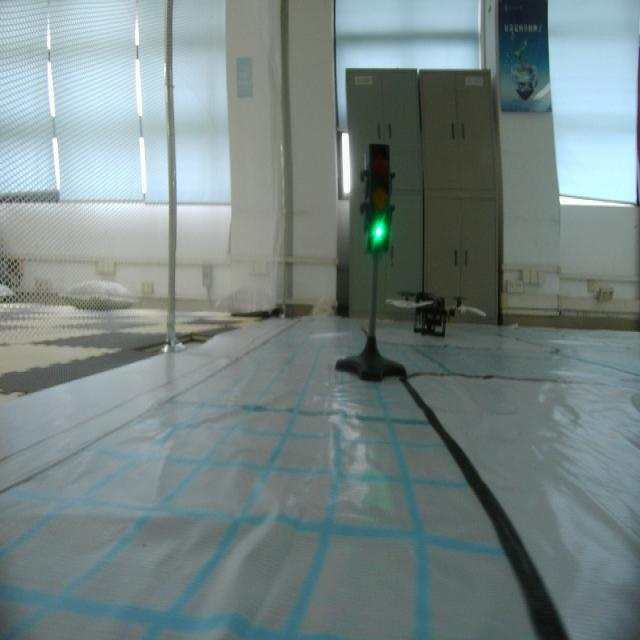green: (354, 144, 404, 260)
